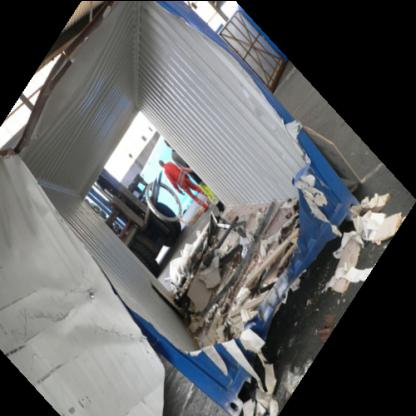Damage: (6, 6, 359, 414)
